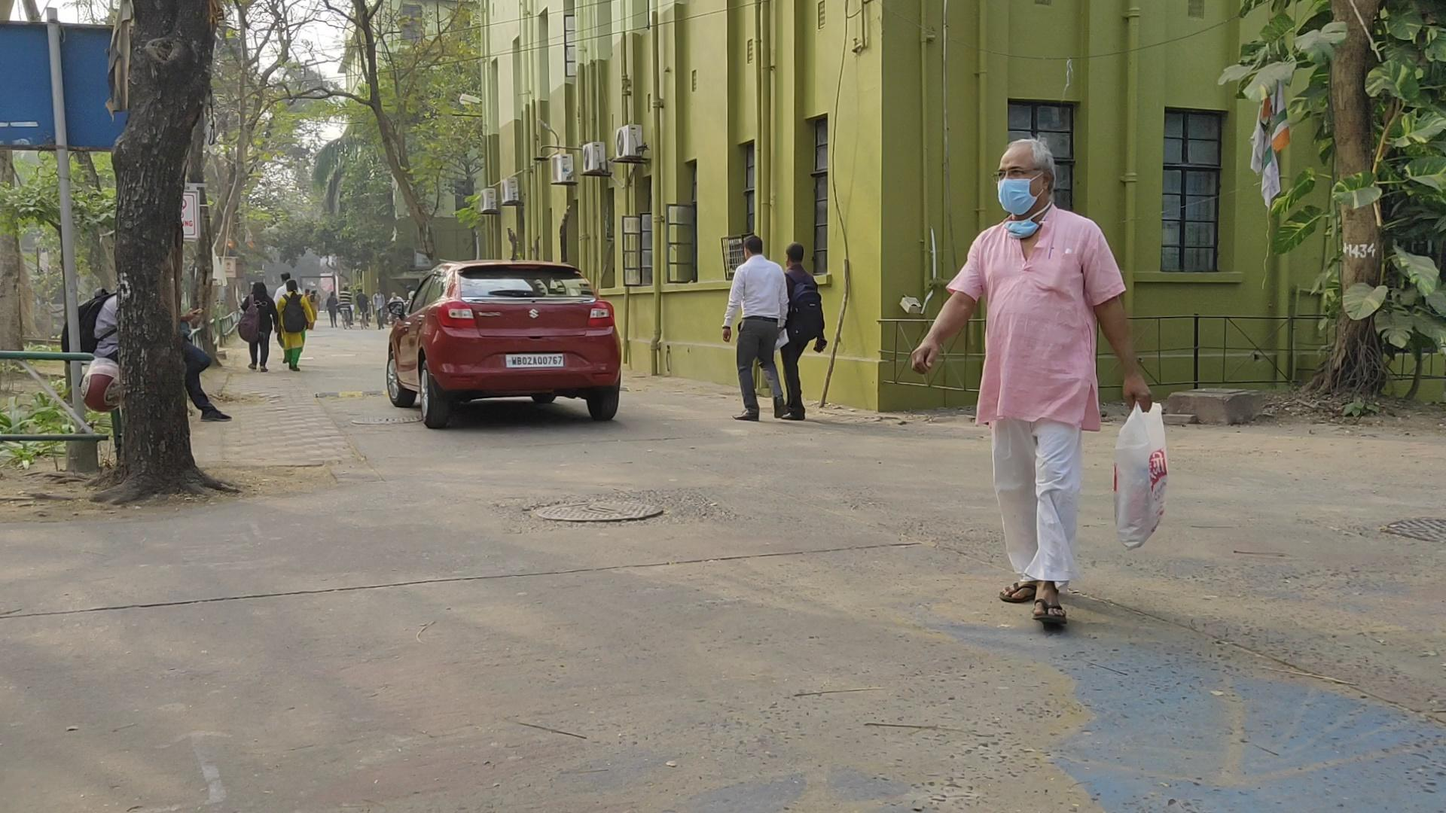car: (386, 259, 620, 426)
